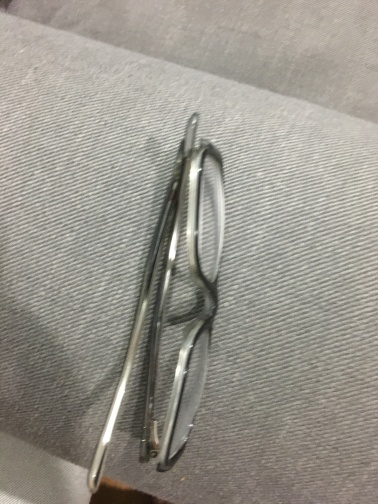glasses: (122, 126, 212, 478)
